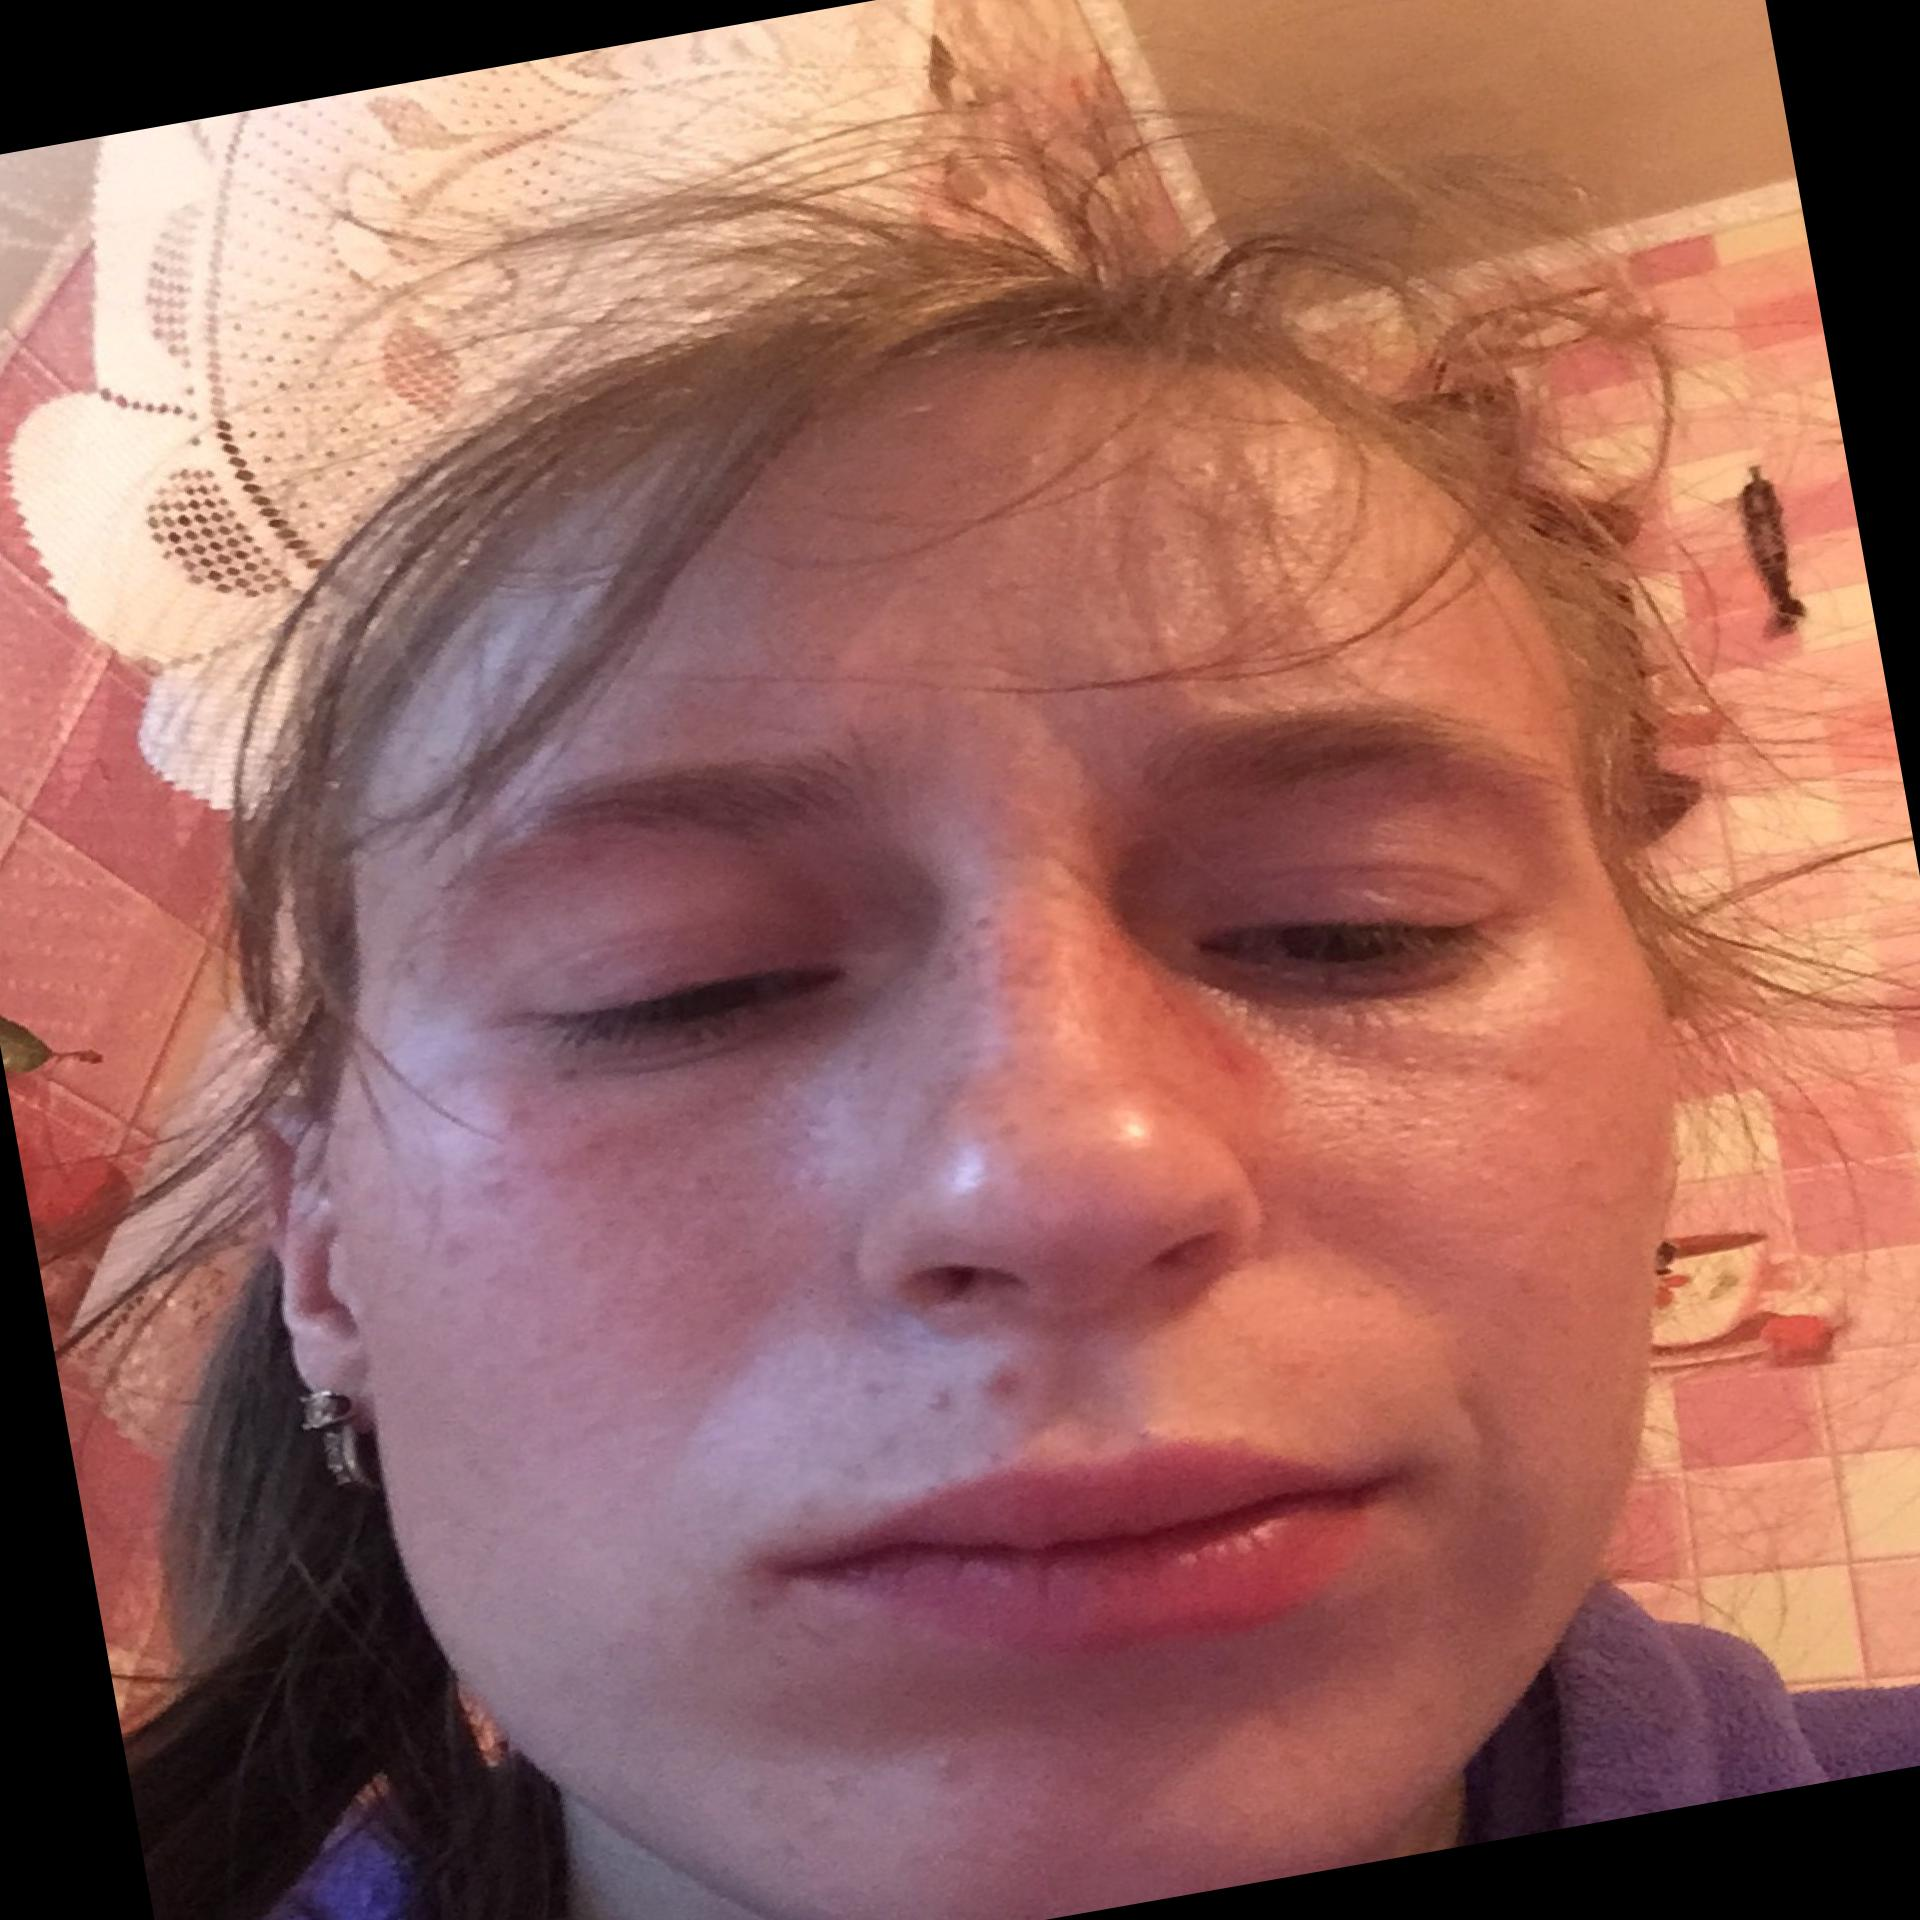Acne: (445, 1092, 550, 1206), (918, 1732, 999, 1811), (972, 1345, 1057, 1414), (902, 1371, 971, 1426)
Englarged Pores: (1141, 433, 1371, 723), (1252, 1006, 1538, 1222)
Wrinkles: (1266, 1169, 1422, 1349), (636, 1326, 795, 1475), (1435, 1378, 1530, 1558)
